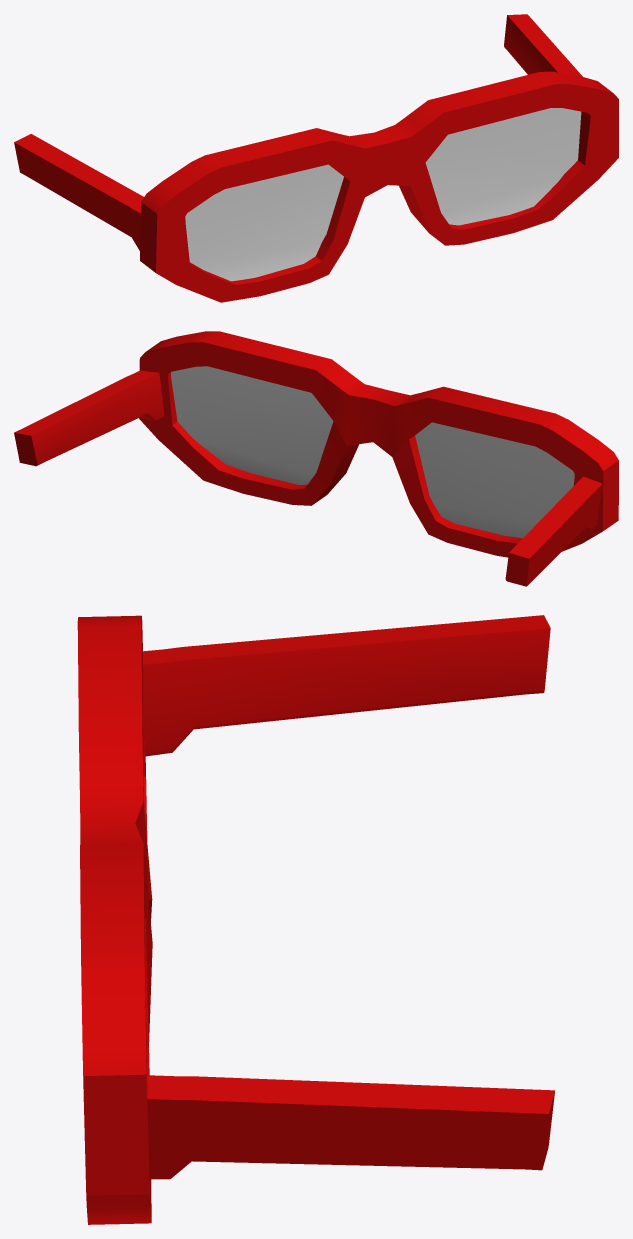
File: gafas.fbx
3 views of the same model, one above another, from view 1: azimuth 30°, elevation 25°; view 2: azimuth 150°, elevation 25°; view 3: azimuth 270°, elevation 25° (orthographic). The views are drawn at different scales.
Visible parts, largest first — view 1: Cuerpo.001; view 2: Cuerpo.001; view 3: Cuerpo.001.
Part boxes in pixels (box(x1,y1,x2,y2)): Cuerpo.001: box(14, 14, 618, 302); Cuerpo.001: box(14, 331, 618, 586); Cuerpo.001: box(77, 615, 554, 1224).
Size of the model in its own units: 0.8664 by 0.228 by 0.3483.
